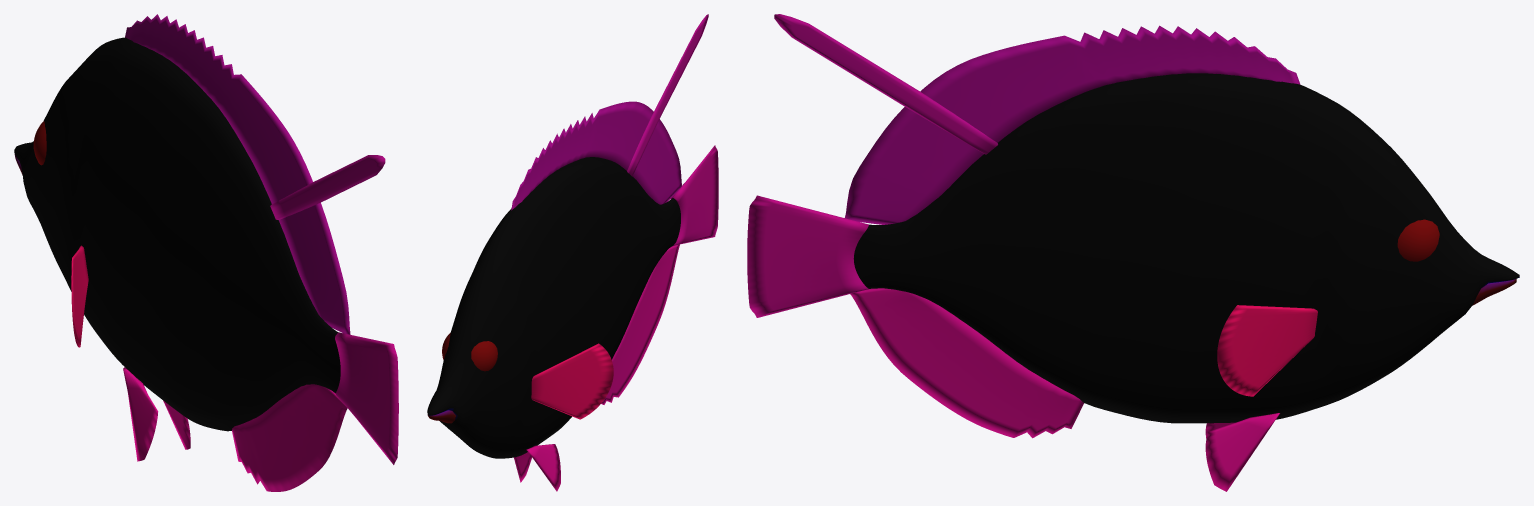
The model's file is butterflyfish_threadfin.glb.
3 renders of one model, left to right at view 1: azimuth 30°, elevation 25°; view 2: azimuth 150°, elevation 25°; view 3: azimuth 270°, elevation 25°, orthographic. The views are drawn at different scales.
Parts seen in each view (by area): view 1: butterflyfish_threadfin; view 2: butterflyfish_threadfin; view 3: butterflyfish_threadfin.
Boxes of the visible parts, x1,y1,x2,y2 form: butterflyfish_threadfin: (14,14,398,491); butterflyfish_threadfin: (427,14,718,491); butterflyfish_threadfin: (747,14,1519,491).
Size of the model in its own units: 0.0511 by 0.1198 by 0.18.
